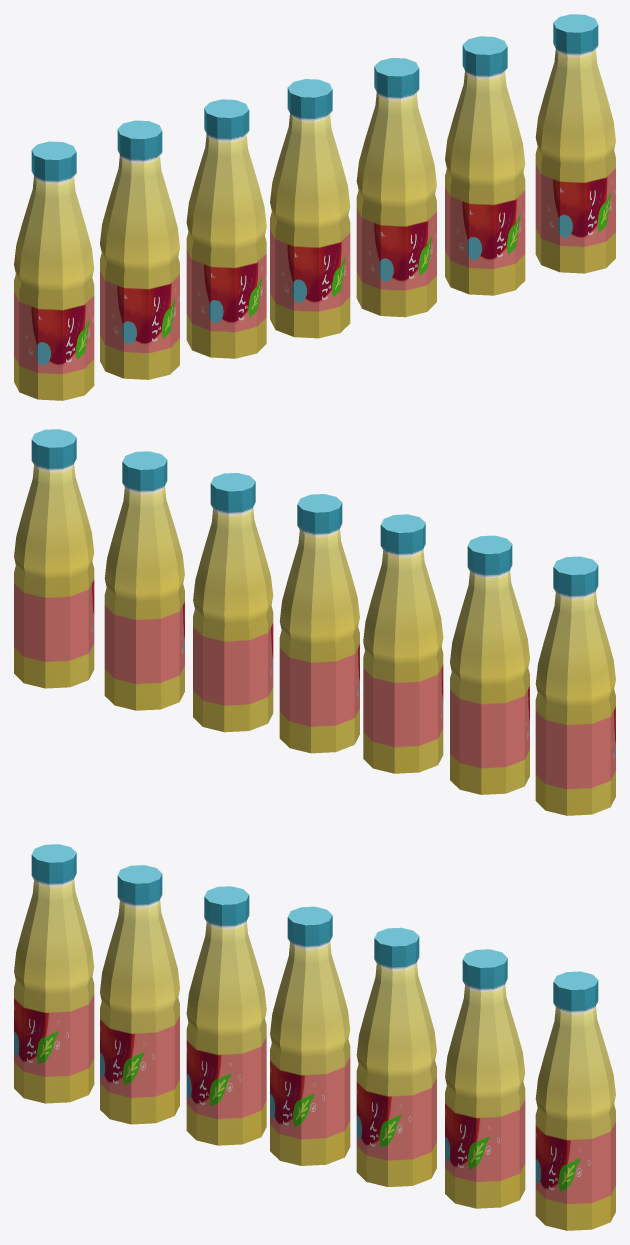
The model's file is drink_C2_box.fbx.
3 views of the same model, one above another, from view 1: azimuth 30°, elevation 25°; view 2: azimuth 150°, elevation 25°; view 3: azimuth 330°, elevation 25° (orthographic).
Parts seen in each view (by area): view 1: drink_C2_box; view 2: drink_C2_box; view 3: drink_C2_box.
Boxes of the visible parts, <box> form: drink_C2_box: <box>14,14,615,400</box>; drink_C2_box: <box>14,429,615,815</box>; drink_C2_box: <box>14,844,615,1230</box>.
Bounding box in the file's own units: 147 × 55.6 × 16.87.
Materials: 1 (1 with a texture image).
